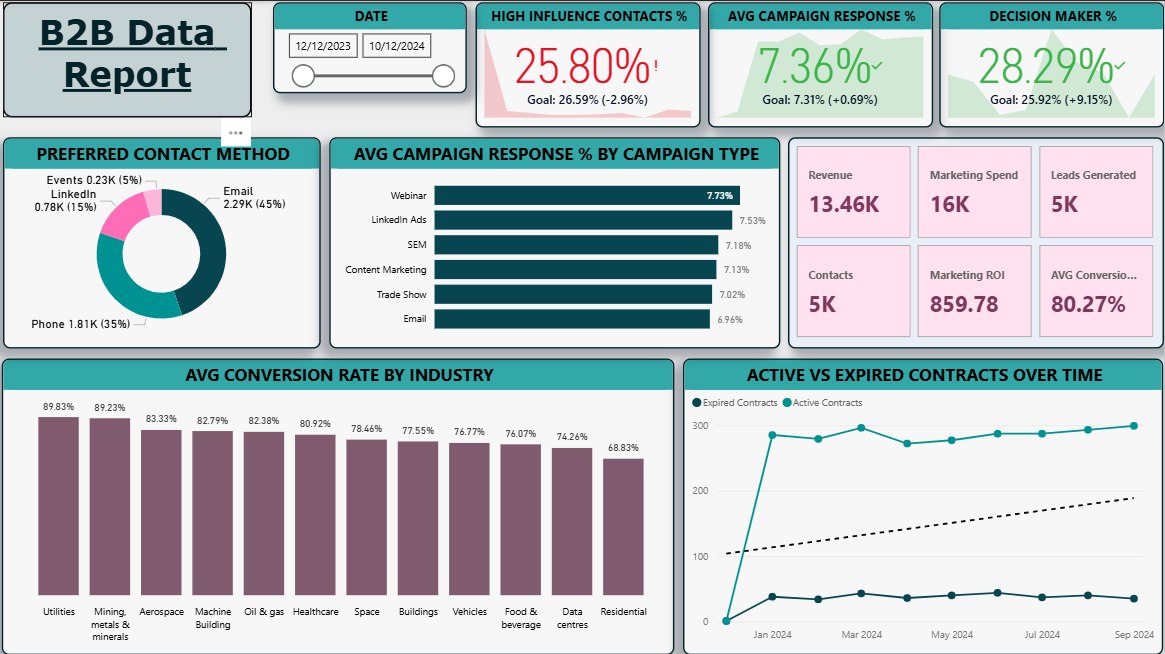

The page's visual inventory and layout, read from the dashboard file:
{"tool":"powerbi","page":{"name":"Executive View","canvas":[1280,720],"ordinal":0},"visuals":[{"type":"kpi","title":"AVG CAMPAIGN RESPONSE %","fields":{"Indicator":["Employees.AVG Campaign Response Rate"],"Goal":["Employees.AVG Campaign Response Rate LM"],"TrendLine":["Calender.Start of Month"]},"box":[779.4,1.4,247,137.2],"z":0},{"type":"kpi","title":"DECISION MAKER %","fields":{"Indicator":["Employees.Decision Maker Rate"],"Goal":["Employees.Decision Maker Rate LM"],"TrendLine":["Calender.Start of Month"]},"box":[1033,1.4,247,137.2],"z":1000},{"type":"kpi","title":"HIGH INFLUENCE CONTACTS %","fields":{"Goal":["Employees.High Influence Contacts Rate LM"],"TrendLine":["Calender.Start of Month"],"Indicator":["Employees.High Influence Contacts Rate"]},"box":[524.2,1.4,247,137.2],"z":2000},{"type":"lineChart","title":"ACTIVE VS EXPIRED CONTRACTS OVER TIME","fields":{"Y":["Employees.Expired Contracts","Employees.Active Contracts"],"Category":["Calender.Start of Month"]},"box":[752.6,391.8,527.4,325.9],"z":3000},{"type":"clusteredColumnChart","title":"AVG CONVERSION RATE BY INDUSTRY","fields":{"Y":["Employees.AVG Conversion Rate"],"Category":["Companies.Industry"]},"box":[4.1,392.5,738.3,325.2],"z":4000},{"type":"donutChart","title":"PREFERRED CONTACT METHOD","fields":{"Y":["Employees.Total Contacts"],"Category":["Employees.Preferred Contact Method"]},"box":[5.5,149.6,348.5,231.9],"z":5000},{"type":"clusteredBarChart","title":"AVG CAMPAIGN RESPONSE % BY CAMPAIGN TYPE","fields":{"Category":["Companies.Campaign Type"],"Y":["Employees.AVG Campaign Response Rate"]},"box":[363.6,149.6,495.4,231.9],"z":6000},{"type":"cardVisual","fields":{"Data":["Employees.Total Revenue","Employees.Total Marketing Spend","Employees.Total Leads Generated","Employees.Total Contacts","Employees.Marketing ROI","Employees.AVG Conversion Rate"]},"box":[867.2,149.6,413,231.9],"z":7000},{"type":"slicer","title":"DATE","fields":{"Values":["Employees.Last Contact Date Fixed"]},"box":[301.9,1.4,212.7,100.2],"z":8000},{"type":"textbox","box":[5.5,1.4,273.1,126.2],"z":9000}]}

Visuals, with their boxes in screenshot pixels (x1, y1, x2, y2), scaled from the page's 1280x720 canvas onto the 1165x654 screenshot:
"AVG CAMPAIGN RESPONSE %" kpi: locate(709, 1, 934, 126)
"DECISION MAKER %" kpi: locate(940, 1, 1164, 126)
"HIGH INFLUENCE CONTACTS %" kpi: locate(477, 1, 702, 126)
"ACTIVE VS EXPIRED CONTRACTS OVER TIME" lineChart: locate(685, 356, 1164, 652)
"AVG CONVERSION RATE BY INDUSTRY" clusteredColumnChart: locate(4, 357, 676, 652)
"PREFERRED CONTACT METHOD" donutChart: locate(5, 136, 322, 347)
"AVG CAMPAIGN RESPONSE % BY CAMPAIGN TYPE" clusteredBarChart: locate(331, 136, 782, 347)
cardVisual - Employees.Total Revenue x Employees.Total Marketing Spend: locate(789, 136, 1164, 347)
"DATE" slicer: locate(275, 1, 468, 92)
textbox: locate(5, 1, 254, 116)
